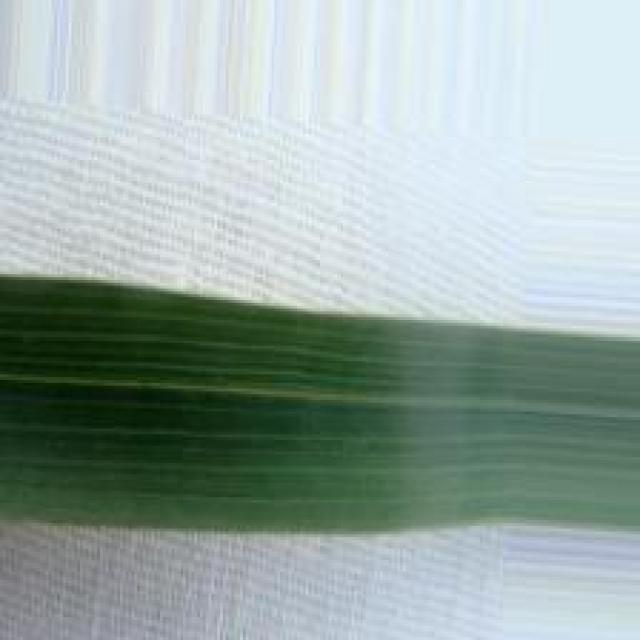Healthy: (0, 277, 640, 537)
